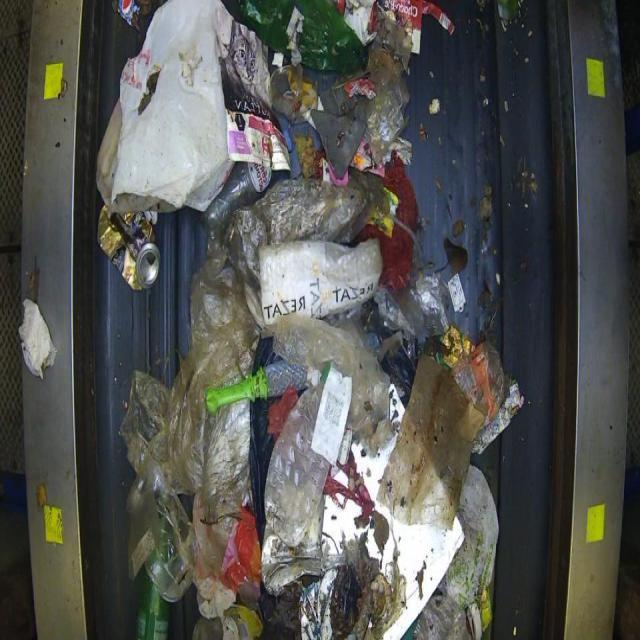cups: (203, 359, 308, 413)
organic-waste: (98, 0, 526, 638)
